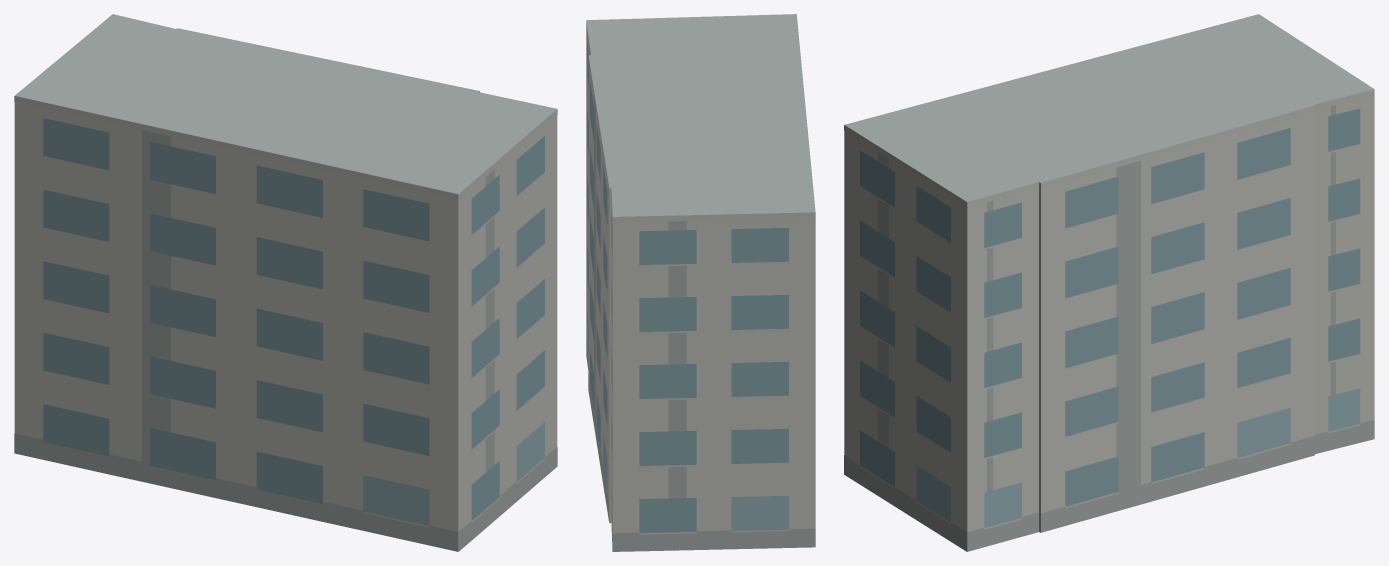
File: survey-upis-32881724.glb
3 renders of one model, left to right at view 1: azimuth 30°, elevation 25°; view 2: azimuth 150°, elevation 25°; view 3: azimuth 270°, elevation 25°, orthographic. The views are drawn at different scales.
Visible parts, largest first — view 1: survey-upis-32881724.tmp; view 2: survey-upis-32881724.tmp; view 3: survey-upis-32881724.tmp.
Part boxes in pixels (bbox=[...]): survey-upis-32881724.tmp: bbox=[14, 14, 557, 551]; survey-upis-32881724.tmp: bbox=[586, 14, 815, 551]; survey-upis-32881724.tmp: bbox=[844, 14, 1374, 551].
Size of the model in its own units: 16.49 by 14.3 by 19.66.
